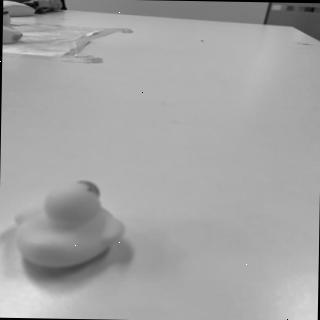duck_regular: (12, 178, 129, 272)
